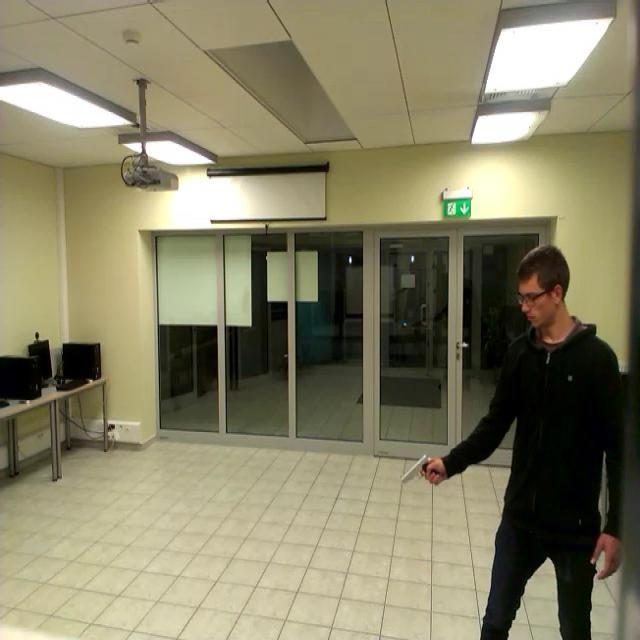weapon: (398, 456, 442, 488)
